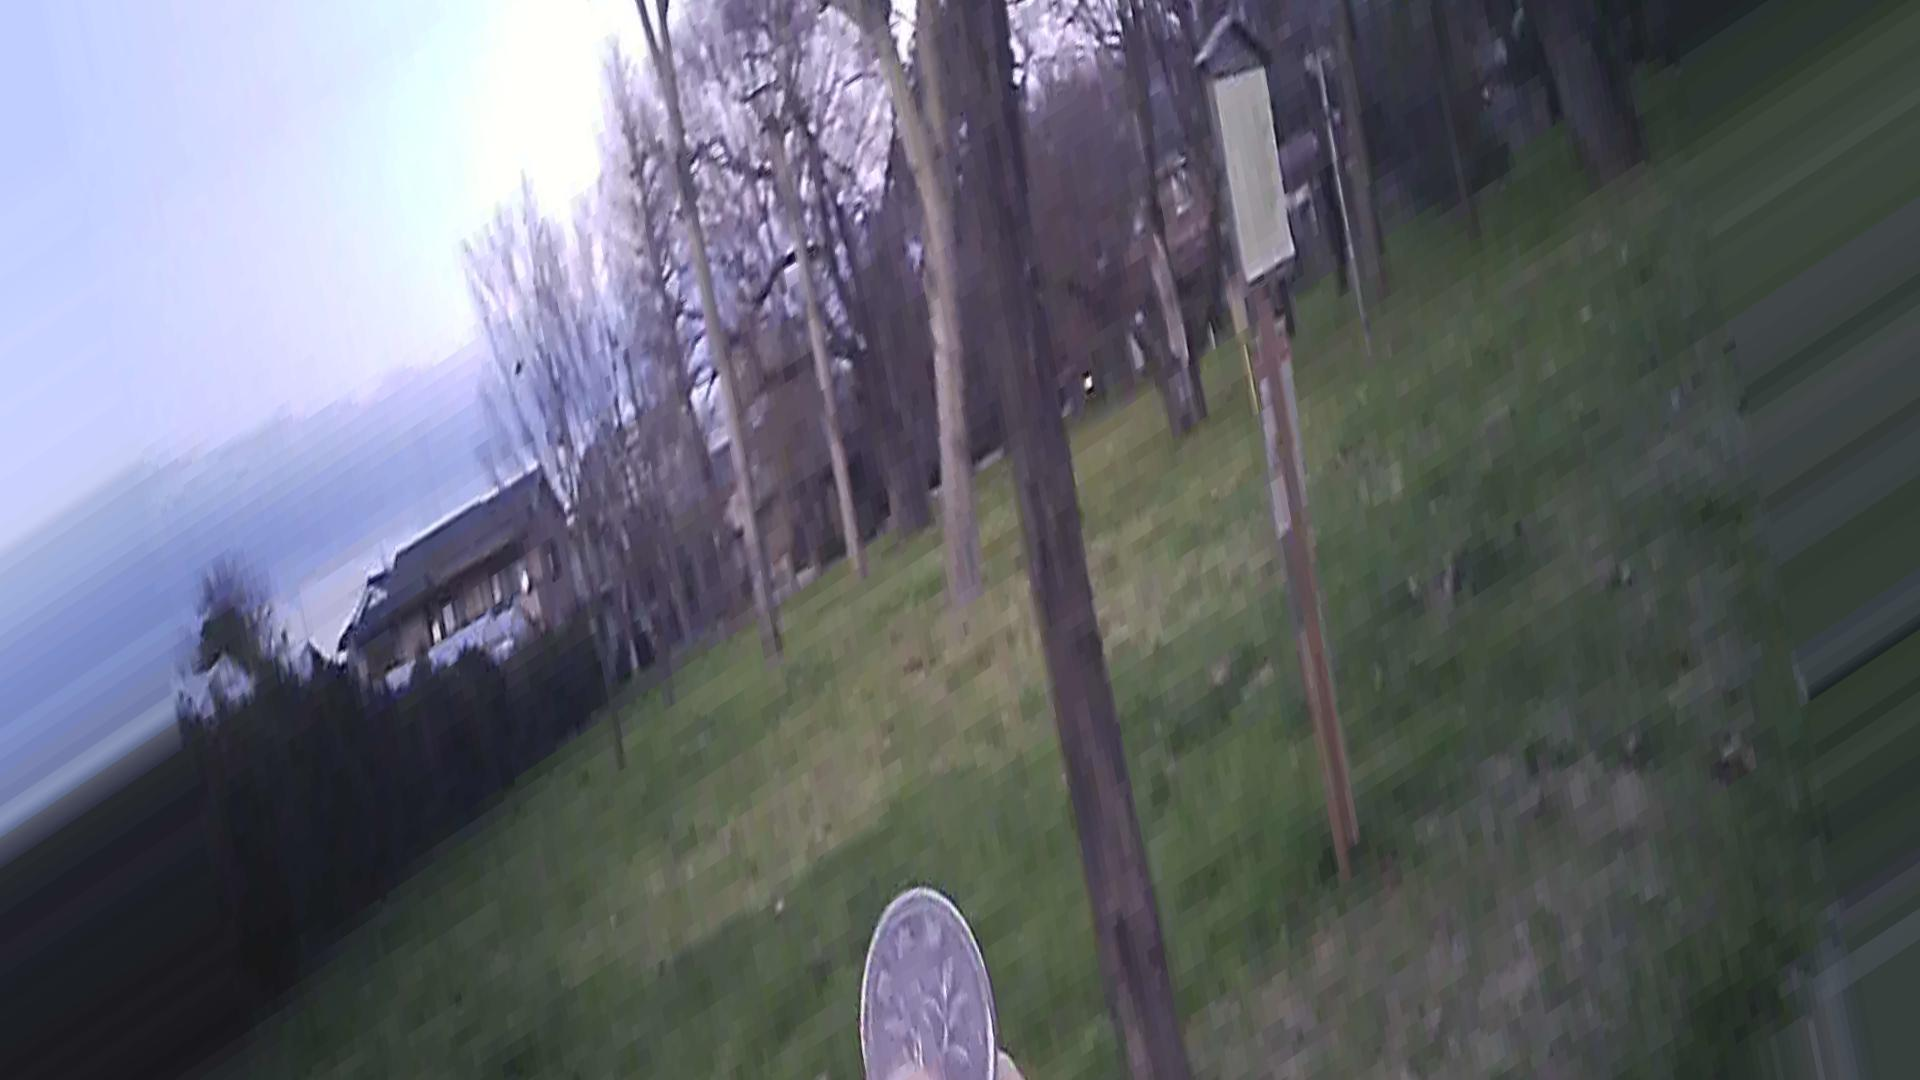1 Yen: (851, 887, 997, 1079)
